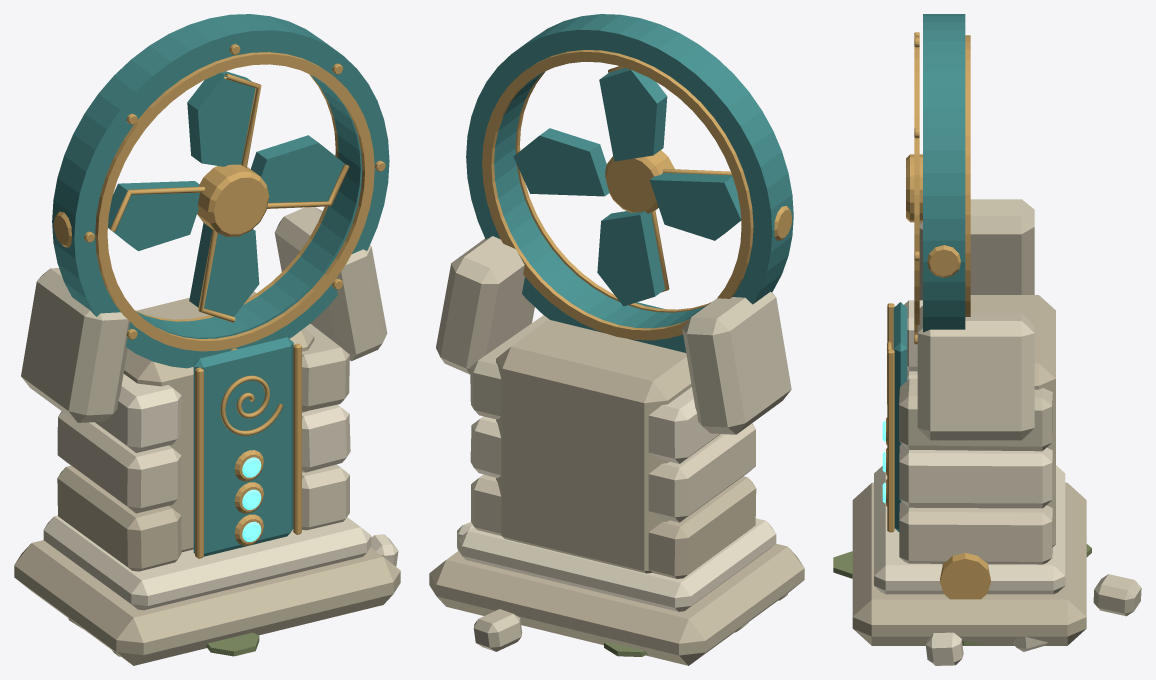
Rendered from wind_charger_v1.glb.
The picture shows the model from 3 angles, left to right: view 1: azimuth 30°, elevation 25°; view 2: azimuth 150°, elevation 25°; view 3: azimuth 270°, elevation 25°; orthographic projection. The views are drawn at different scales.
Parts seen in each view (by area): view 1: Charger_Housing, Rotor_Assembly; view 2: Charger_Housing, Rotor_Assembly; view 3: Charger_Housing, Rotor_Assembly.
Boxes of the visible parts, x1,y1,x2,y2 form: Charger_Housing: [14, 14, 400, 665]; Rotor_Assembly: [108, 71, 349, 322]; Charger_Housing: [429, 14, 804, 665]; Rotor_Assembly: [513, 66, 740, 306]; Charger_Housing: [833, 14, 1141, 665]; Rotor_Assembly: [906, 154, 922, 222].
Size of the model in its own units: 1.74 by 2.9 by 1.45.
